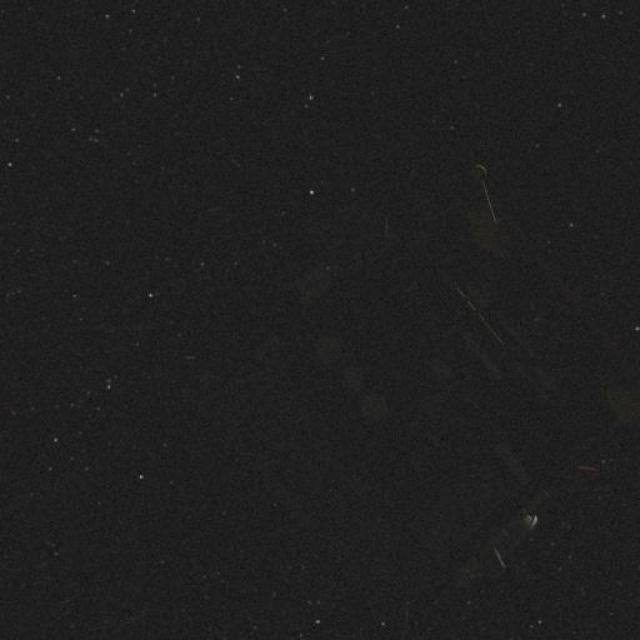proba_2: (359, 236, 609, 569)
